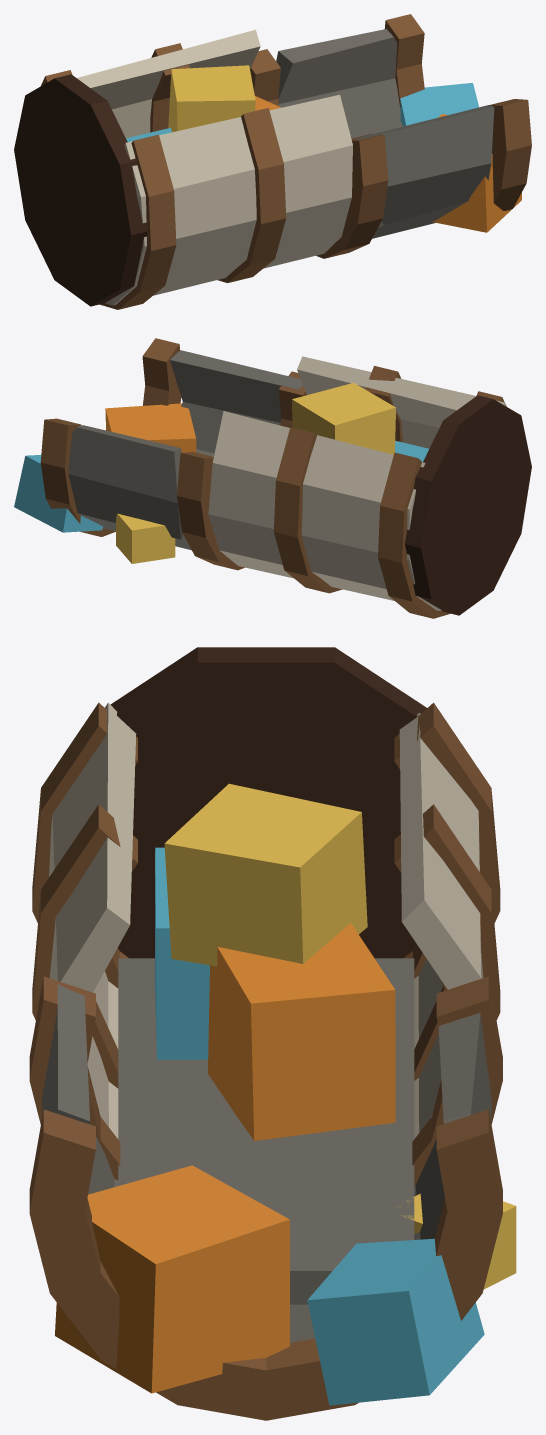
File: cargo_pod.glb
The picture shows the model from 3 angles, top to bottom: view 1: azimuth 30°, elevation 25°; view 2: azimuth 150°, elevation 25°; view 3: azimuth 270°, elevation 25°; orthographic projection. The views are drawn at different scales.
Visible parts, largest first — view 1: cargo_pod; view 2: cargo_pod; view 3: cargo_pod.
Part boxes in pixels (x1,y1,x2,y2): cargo_pod: [14, 14, 531, 309]; cargo_pod: [14, 338, 531, 618]; cargo_pod: [29, 647, 516, 1420].
Size of the model in its own units: 5.26 by 2.42 by 2.63.
